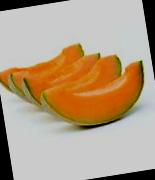Melon Ripe: (39, 62, 150, 132), (21, 56, 123, 112), (6, 52, 106, 100), (0, 42, 88, 92)
